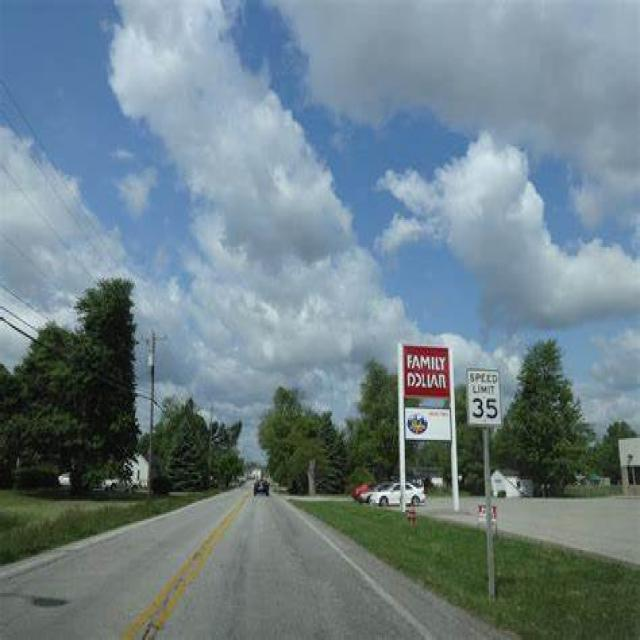speedLimit35: (467, 369, 504, 430)
